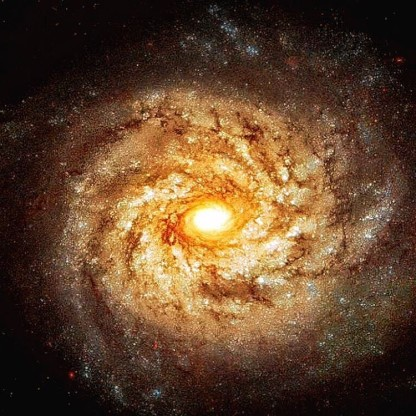NGC 3982: (17, 67, 401, 390)
